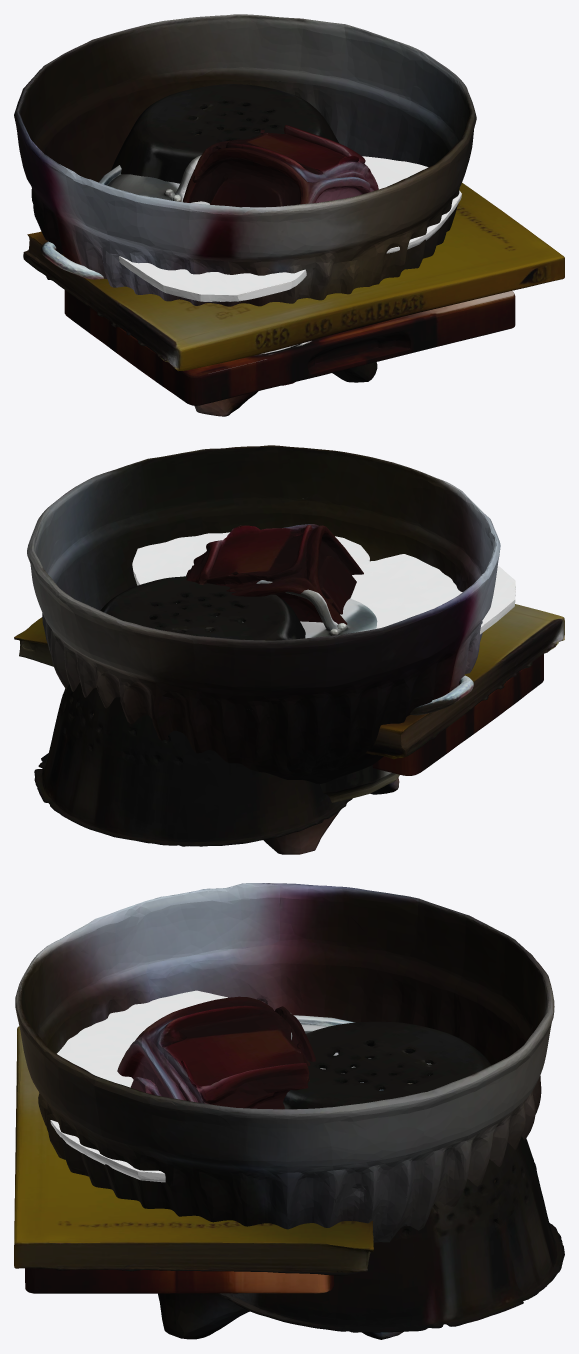
The model's file is scenegen.glb.
3 views of the same model, one above another, from view 1: azimuth 30°, elevation 25°; view 2: azimuth 150°, elevation 25°; view 3: azimuth 270°, elevation 25° (orthographic). The views are drawn at different scales.
Visible parts, largest first — view 1: geometry_1, geometry_5, geometry_4, geometry_2, geometry_3, geometry_0; view 2: geometry_1, geometry_2, geometry_4, geometry_3, geometry_5, geometry_0; view 3: geometry_1, geometry_2, geometry_5, geometry_3, geometry_4, geometry_0.
Boxes of the visible parts, bbox=[...] form: geometry_1: bbox=[14, 14, 476, 416]; geometry_5: bbox=[23, 182, 564, 370]; geometry_4: bbox=[64, 156, 515, 405]; geometry_2: bbox=[111, 84, 338, 183]; geometry_3: bbox=[183, 125, 378, 385]; geometry_0: bbox=[40, 155, 209, 279]; geometry_1: bbox=[27, 445, 500, 854]; geometry_2: bbox=[34, 576, 352, 846]; geometry_4: bbox=[132, 532, 543, 775]; geometry_3: bbox=[186, 524, 363, 624]; geometry_5: bbox=[14, 604, 564, 759]; geometry_0: bbox=[210, 580, 473, 802]; geometry_1: bbox=[15, 883, 554, 1339]; geometry_2: bbox=[218, 1021, 564, 1332]; geometry_5: bbox=[14, 1026, 373, 1275]; geometry_3: bbox=[117, 996, 315, 1109]; geometry_4: bbox=[25, 990, 334, 1293]; geometry_0: bbox=[290, 1013, 431, 1090].
Size of the model in its own units: 1.96 by 1.18 by 1.96.
6 materials, 6 textured.
